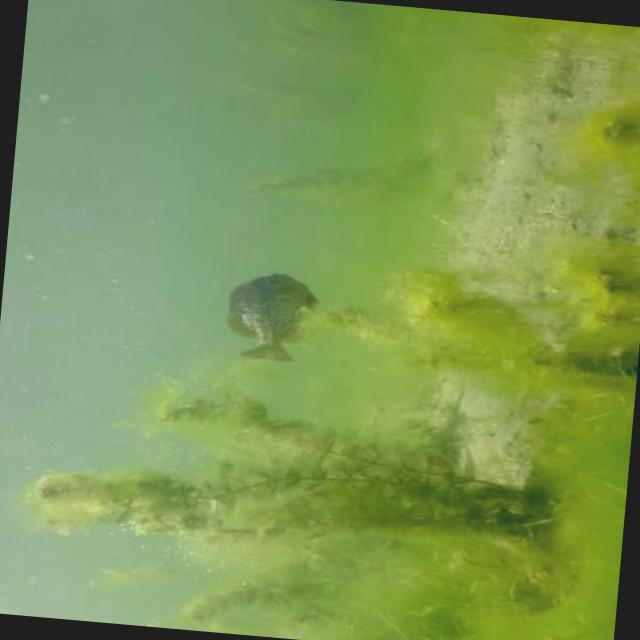Gunes Levregi: (220, 263, 320, 366)
